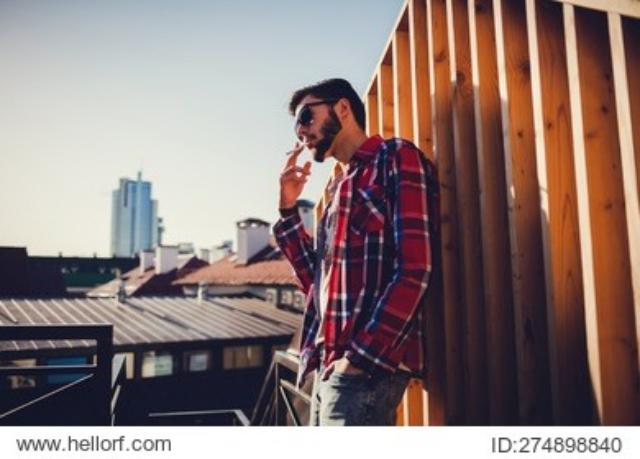Cigarette: (276, 142, 326, 154)
